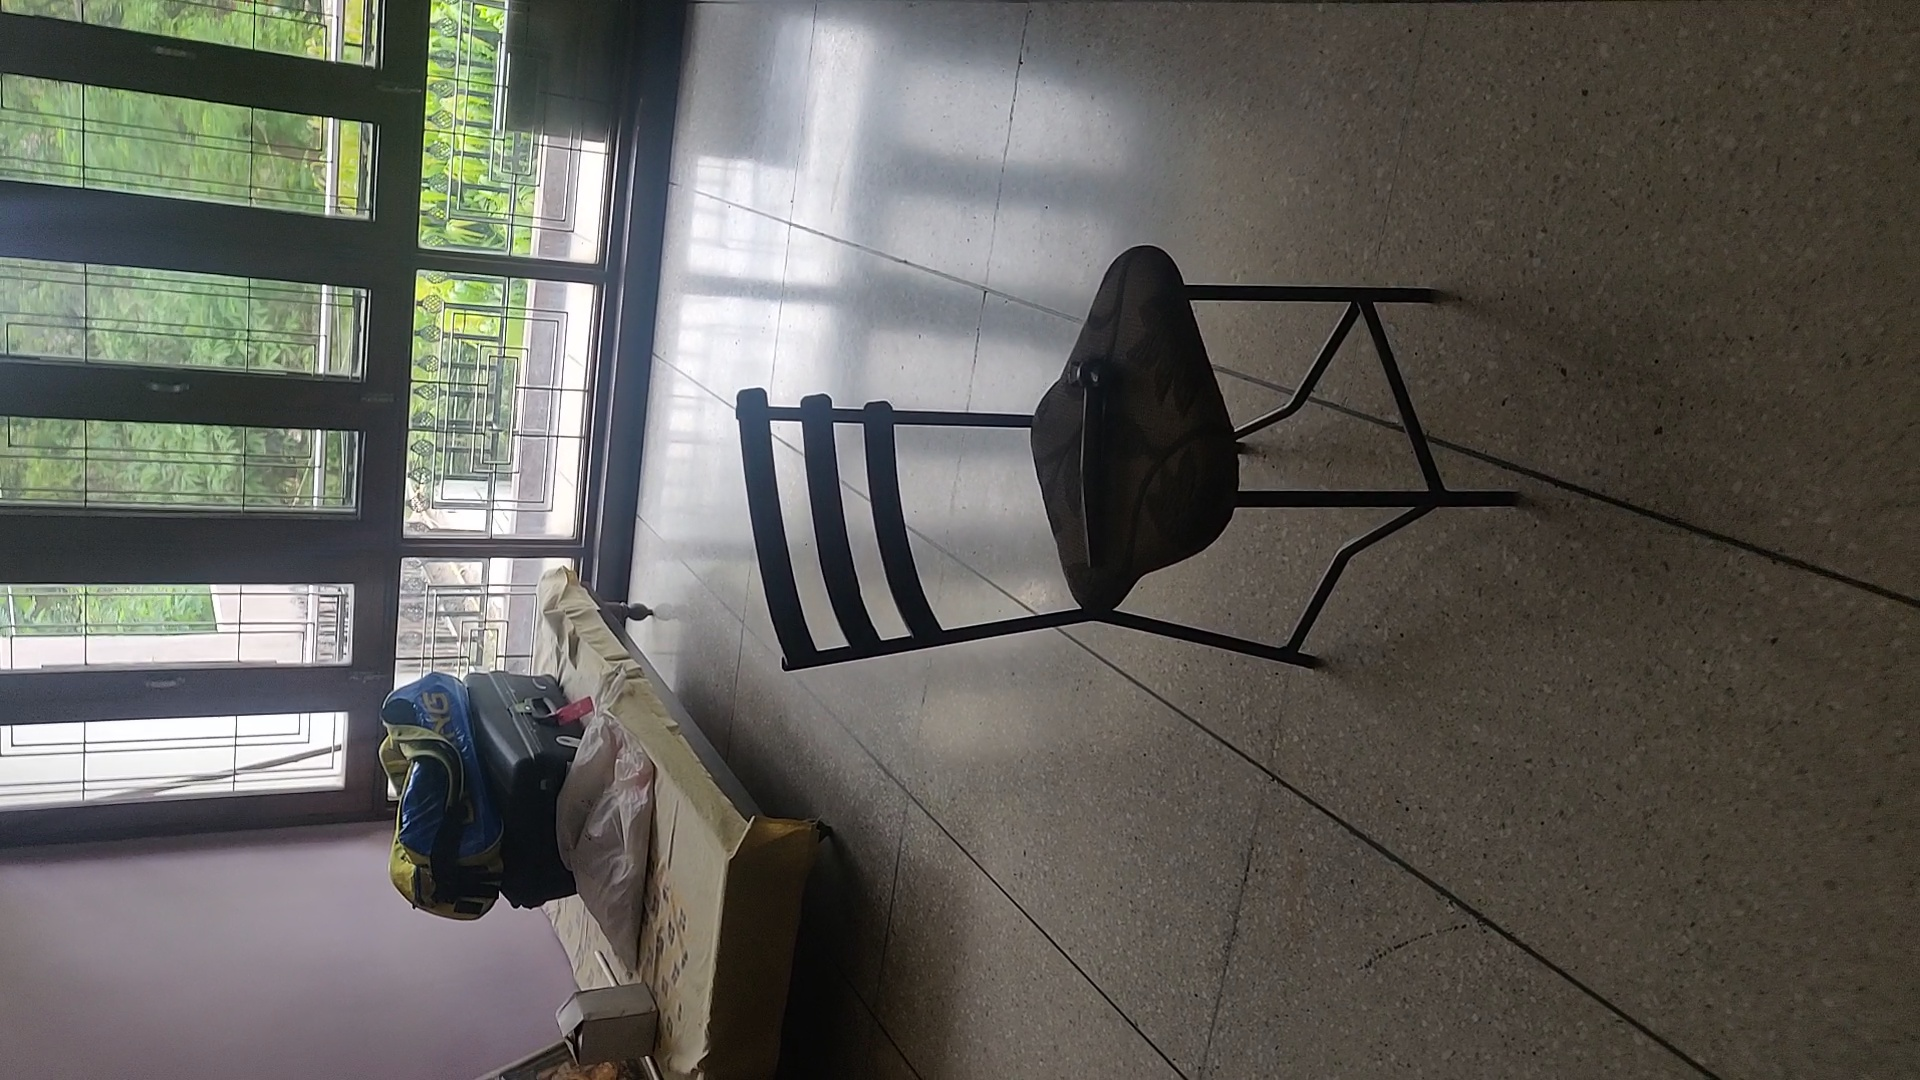hammer: (1065, 360, 1127, 564)
